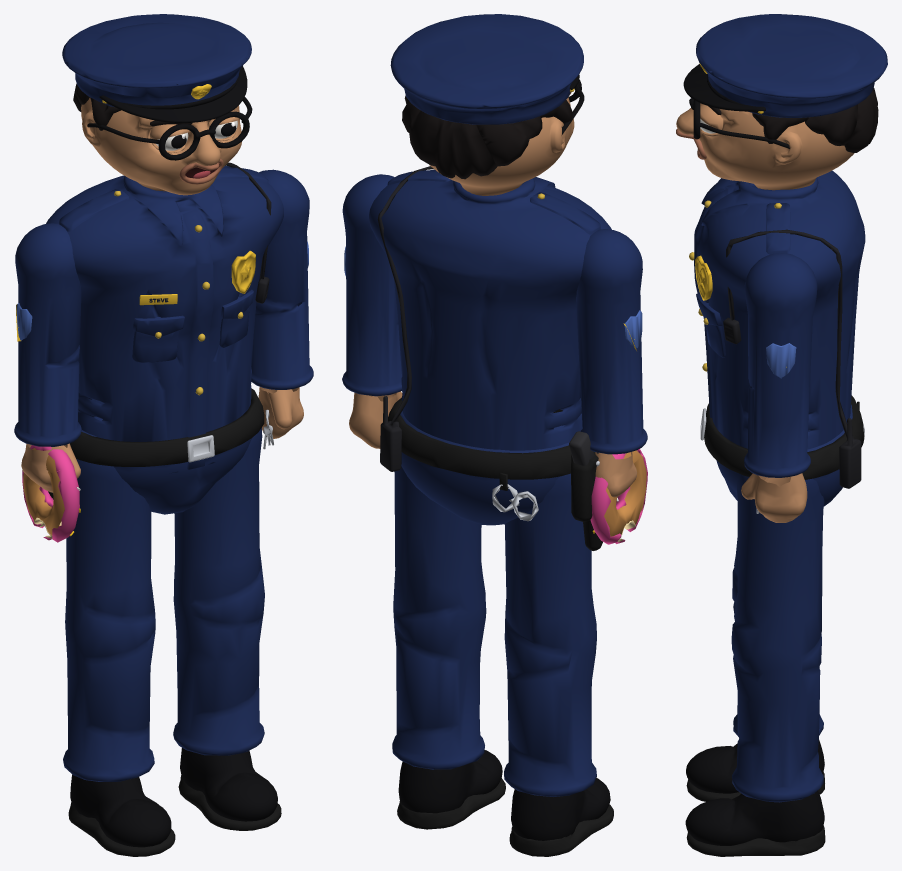
Rendered from cop_steve.glb.
3 renders of one model, left to right at view 1: azimuth 30°, elevation 25°; view 2: azimuth 150°, elevation 25°; view 3: azimuth 270°, elevation 25°, orthographic.
Visible parts, largest first — view 1: Body_Mesh, LegR_Mesh, LegL_Mesh, Head_Mesh, ArmR_Mesh, ArmL_Mesh, Donut, Mouth; view 2: Body_Mesh, LegR_Mesh, LegL_Mesh, Head_Mesh, ArmR_Mesh, ArmL_Mesh, Donut; view 3: Body_Mesh, LegL_Mesh, Head_Mesh, ArmL_Mesh, LegR_Mesh.
Part boxes in pixels (x1,y1,x2,y2): Body_Mesh: (46, 162, 283, 514); LegR_Mesh: (63, 416, 175, 856); LegL_Mesh: (173, 427, 281, 830); Head_Mesh: (62, 14, 252, 195); ArmR_Mesh: (14, 223, 81, 492); ArmL_Mesh: (251, 169, 313, 438); Donut: (22, 445, 80, 542); Mouth: (179, 158, 223, 184); Body_Mesh: (369, 166, 611, 550); LegR_Mesh: (504, 425, 613, 856); LegL_Mesh: (392, 466, 505, 829); Head_Mesh: (390, 14, 584, 195); ArmR_Mesh: (576, 229, 647, 497); ArmL_Mesh: (342, 174, 402, 448); Donut: (590, 449, 647, 544); Body_Mesh: (689, 170, 865, 513); LegL_Mesh: (685, 474, 825, 856); Head_Mesh: (676, 14, 887, 190); ArmL_Mesh: (741, 253, 817, 522); LegR_Mesh: (686, 430, 824, 801).
Bounding box in the file's own units: 0.759 × 1.9 × 0.4754.
